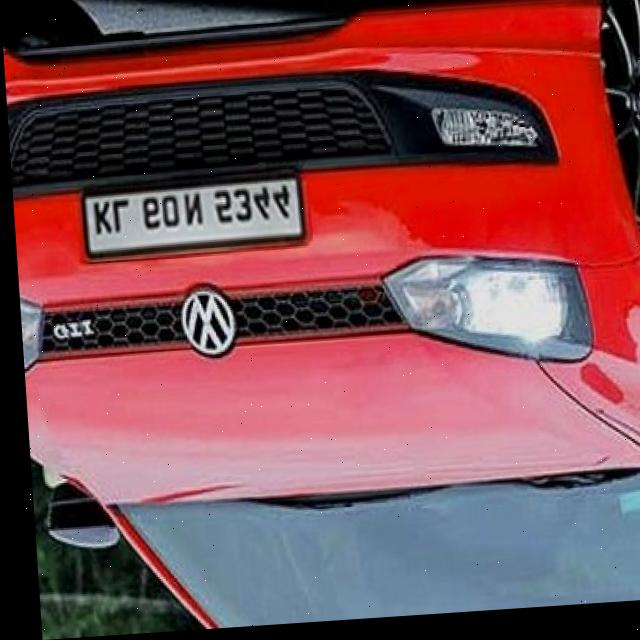plate: (82, 181, 300, 256)
